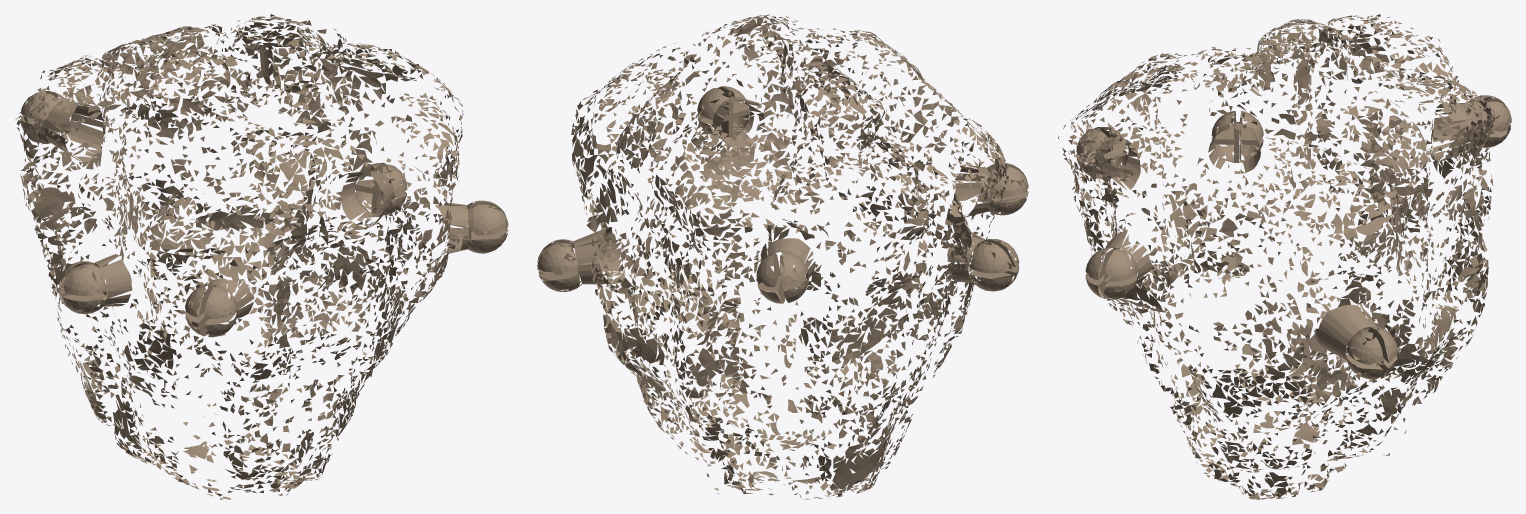
Rendered from rocky_torso.obj.
The picture shows the model from 3 angles, left to right: view 1: azimuth 30°, elevation 25°; view 2: azimuth 150°, elevation 25°; view 3: azimuth 270°, elevation 25°; orthographic projection.
Size of the model in its own units: 0.4665 by 0.4857 by 0.4507.
1 material, 1 textured.
